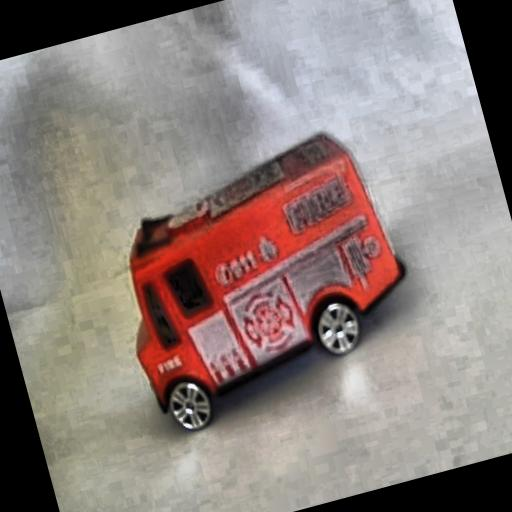fire_truck: (77, 108, 438, 450)
